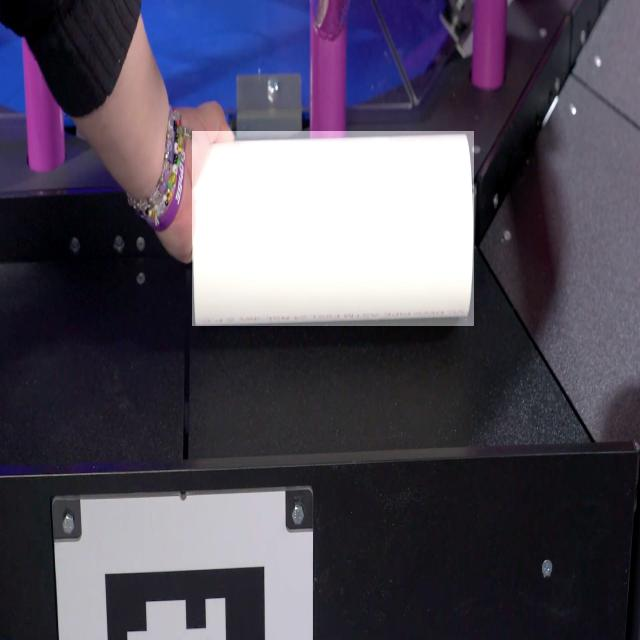Coral: (192, 131, 474, 326)
